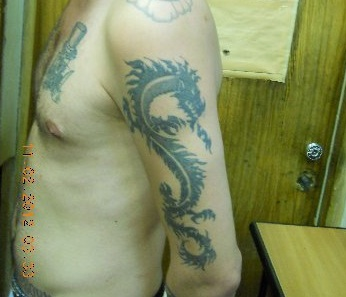tatu6_drakon: (111, 54, 245, 282)
